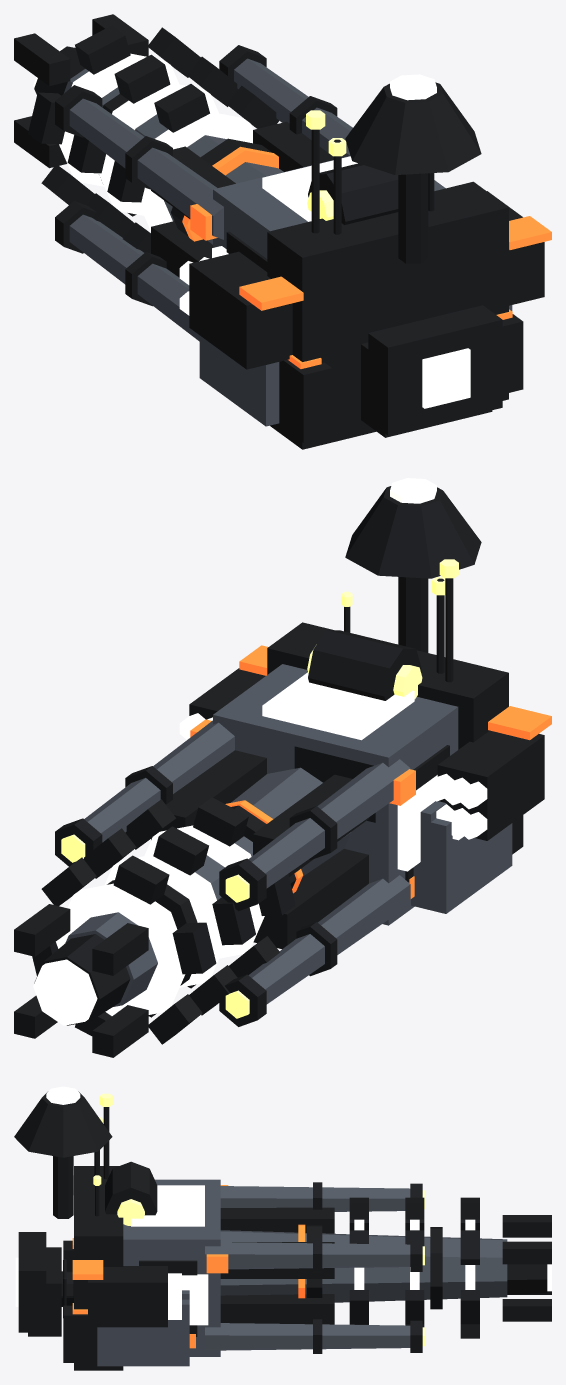
File: tower_apex_turret.glb
The picture shows the model from 3 angles, top to bottom: view 1: azimuth 30°, elevation 25°; view 2: azimuth 150°, elevation 25°; view 3: azimuth 270°, elevation 25°; orthographic projection. The views are drawn at different scales.
Visible parts, largest first — view 1: TowerApex_Barrel, TowerApex_Turret; view 2: TowerApex_Barrel, TowerApex_Turret; view 3: TowerApex_Barrel, TowerApex_Turret.
Part boxes in pixels (box(x1,y1,x2,y2)): TowerApex_Barrel: box(14, 14, 508, 449); TowerApex_Turret: box(179, 74, 551, 442); TowerApex_Barrel: box(14, 622, 508, 1057); TowerApex_Turret: box(179, 478, 551, 913); TowerApex_Barrel: box(74, 1166, 551, 1370); TowerApex_Turret: box(14, 1086, 195, 1366).
Bounding box in the file's own units: 0.78 × 0.875 × 1.75.
